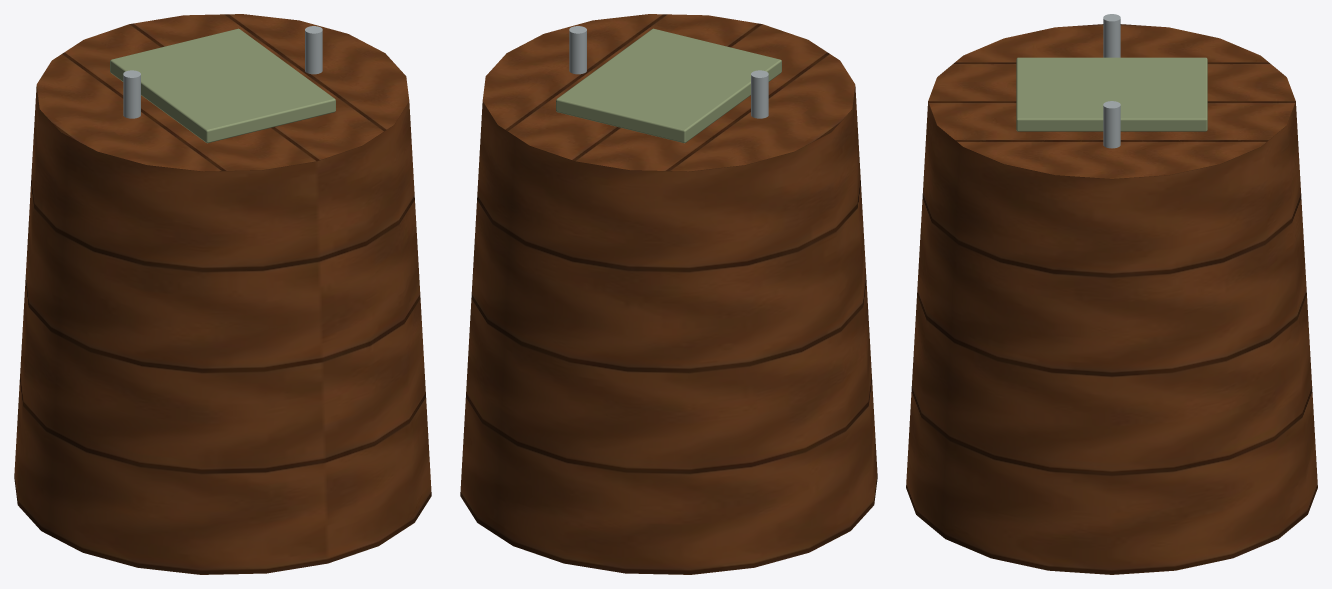
File: primitive-crafting-workshop-leatherworking-stump-200dd2ec__21569.glb
3 renders of one model, left to right at view 1: azimuth 30°, elevation 25°; view 2: azimuth 150°, elevation 25°; view 3: azimuth 270°, elevation 25°, orthographic.
Parts seen in each view (by area): view 1: leatherworking-stump; view 2: leatherworking-stump; view 3: leatherworking-stump.
Part boxes in pixels (x1,y1,x2,y2): leatherworking-stump: (14, 14, 431, 574); leatherworking-stump: (460, 14, 877, 574); leatherworking-stump: (906, 14, 1317, 574).
Size of the model in its own units: 0.56 by 0.64 by 0.56.
3 materials, 1 textured.
